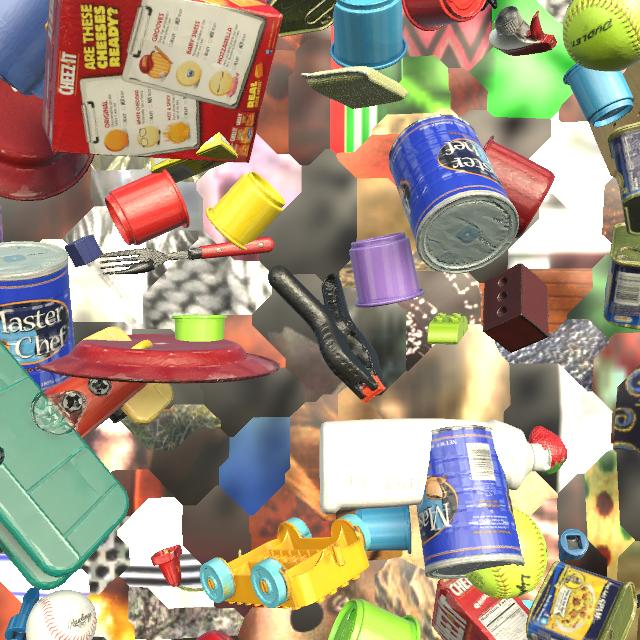ycb_002_master_chef_can: (389, 114, 519, 274), (416, 425, 525, 579), (0, 241, 75, 392)
ycb_003_cracker_box: (42, 0, 283, 163), (431, 578, 530, 640)
ycb_004_sugar_box: (150, 132, 238, 183)
ycb_010_potted_meat_can: (526, 561, 637, 640), (603, 222, 640, 329), (608, 122, 640, 235), (264, 0, 345, 37)
ycb_011_banana: (45, 23, 47, 31)
ycb_012_strawberry: (528, 426, 567, 475)
ycb_013_apple: (196, 630, 234, 640)
